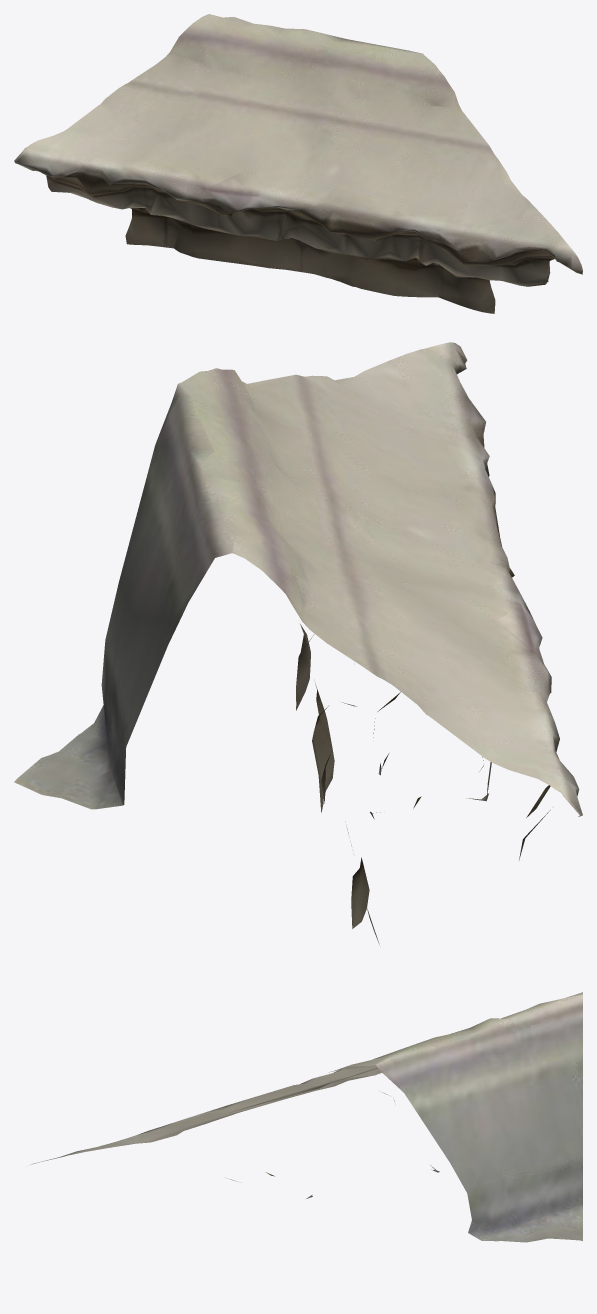
The picture shows the model from 3 angles, top to bottom: view 1: azimuth 30°, elevation 25°; view 2: azimuth 150°, elevation 25°; view 3: azimuth 270°, elevation 25°; orthographic projection. The views are drawn at different scales.
Size of the model in its own units: 2.72 by 1.73 by 3.73.
Materials: 1 (1 with a texture image).
